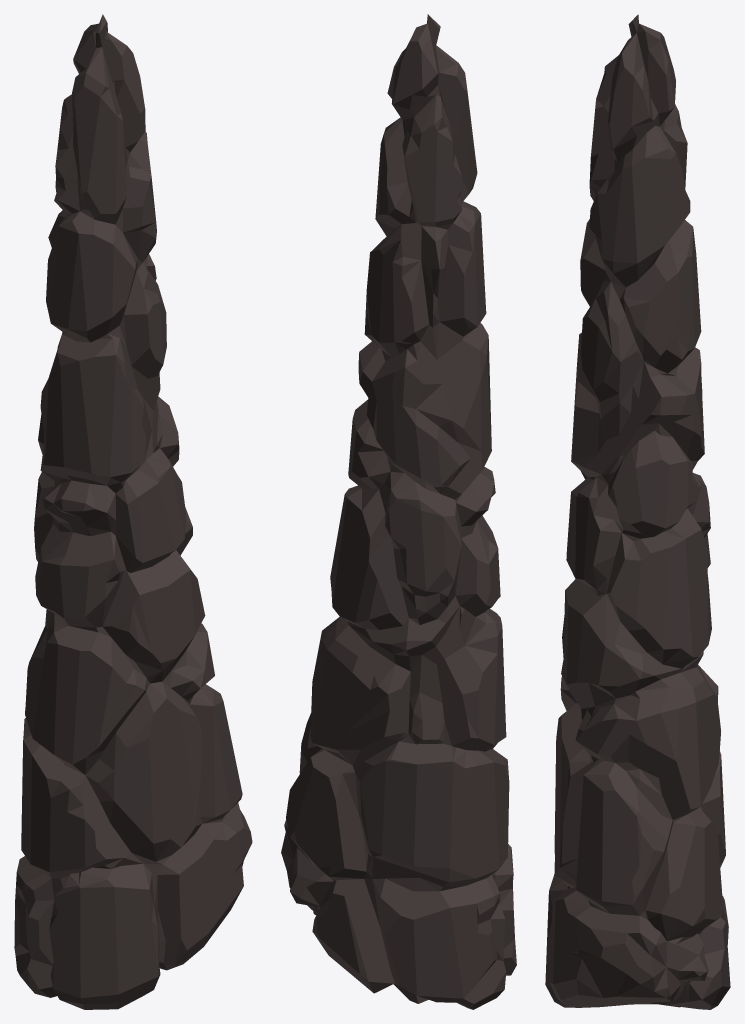
File: StoneBig02.fbx
The picture shows the model from 3 angles, left to right: view 1: azimuth 30°, elevation 25°; view 2: azimuth 150°, elevation 25°; view 3: azimuth 270°, elevation 25°; orthographic projection. The views are drawn at different scales.
Visible parts, largest first — view 1: Cylinder.001; view 2: Cylinder.001; view 3: Cylinder.001.
Boxes of the visible parts, <box> form: Cylinder.001: <box>14,14,252,1009</box>; Cylinder.001: <box>281,14,516,1009</box>; Cylinder.001: <box>545,14,730,1009</box>.
Bounding box in the file's own units: 95.06 × 405 × 67.89.
